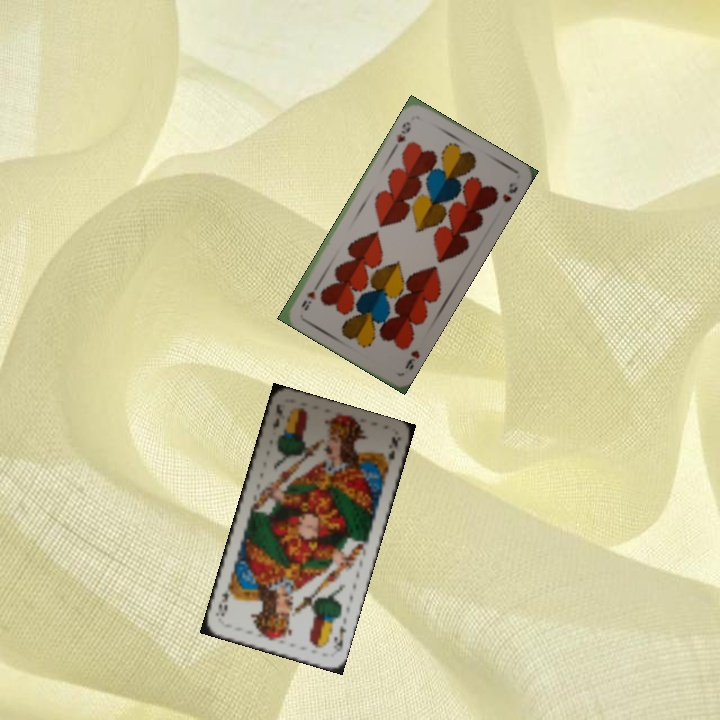EK: (329, 621, 349, 654), (269, 400, 285, 432)
H9: (390, 117, 414, 151), (401, 346, 423, 374)
